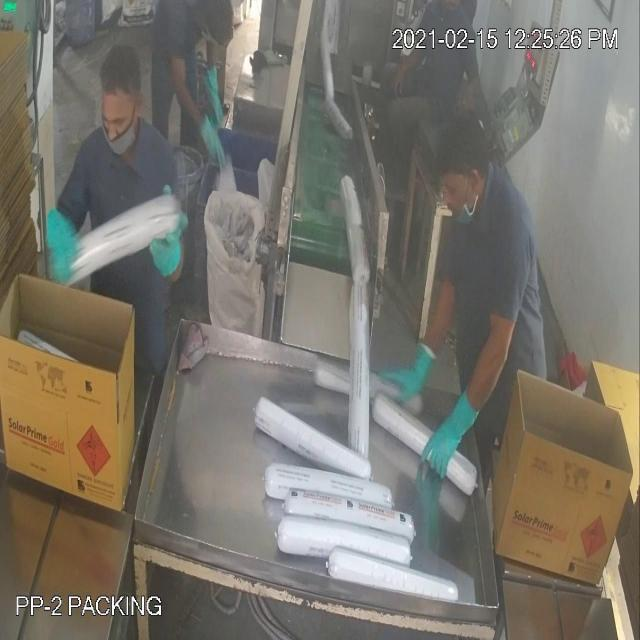Gloves: (30, 47, 465, 440)
